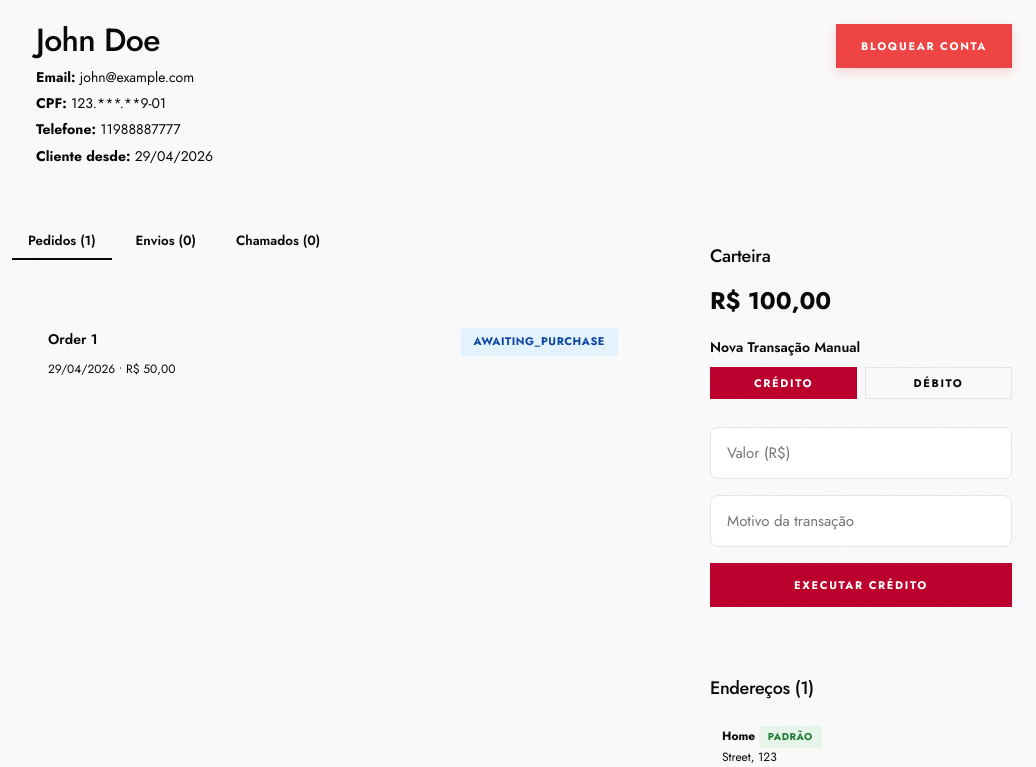
Scenario: CustomerDetails Component › deve bloquear/desbloquear usuário
Click the button "Bloquear Conta": coordinates (924, 46) x1=836 y1=24 x2=1012 y2=68
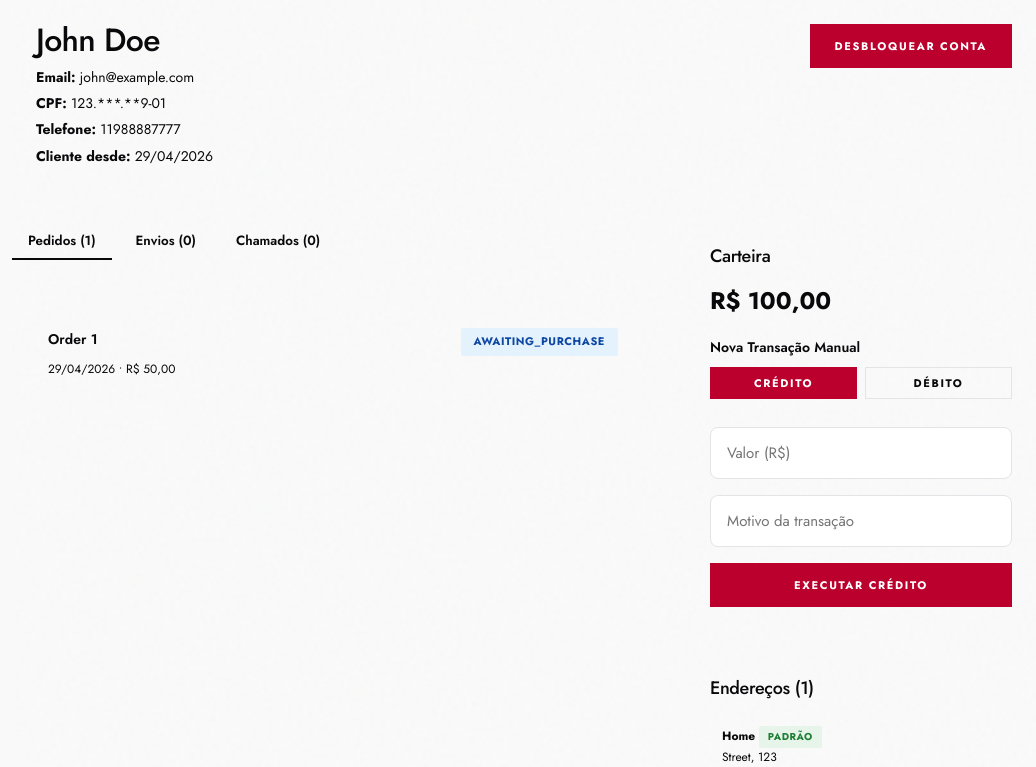
expect the text "Desbloquear Conta" is shown: met, box x1=835 y1=38 x2=987 y2=54
